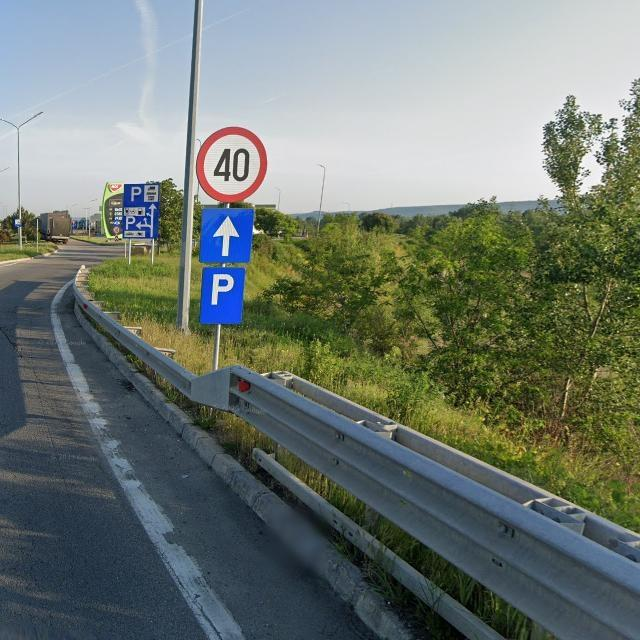forb_speed_over_40: (197, 127, 268, 203)
